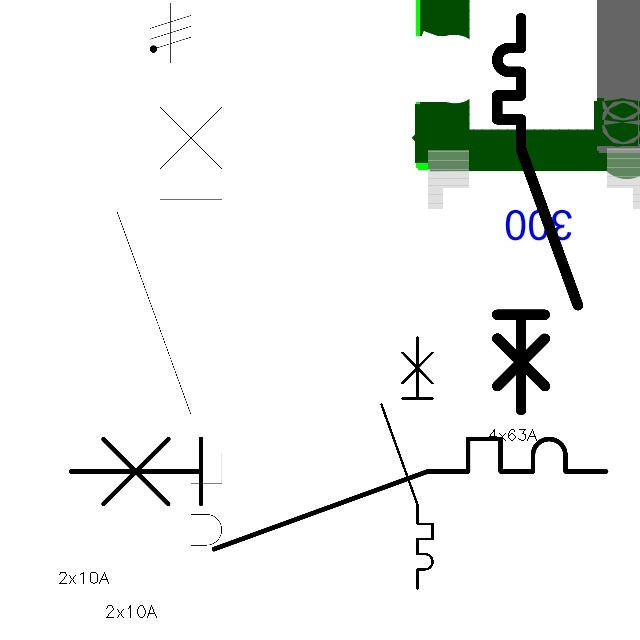interruptor_termomagnetico: (57, 425, 620, 563), (104, 63, 235, 597), (487, 8, 587, 420), (375, 331, 439, 595)
